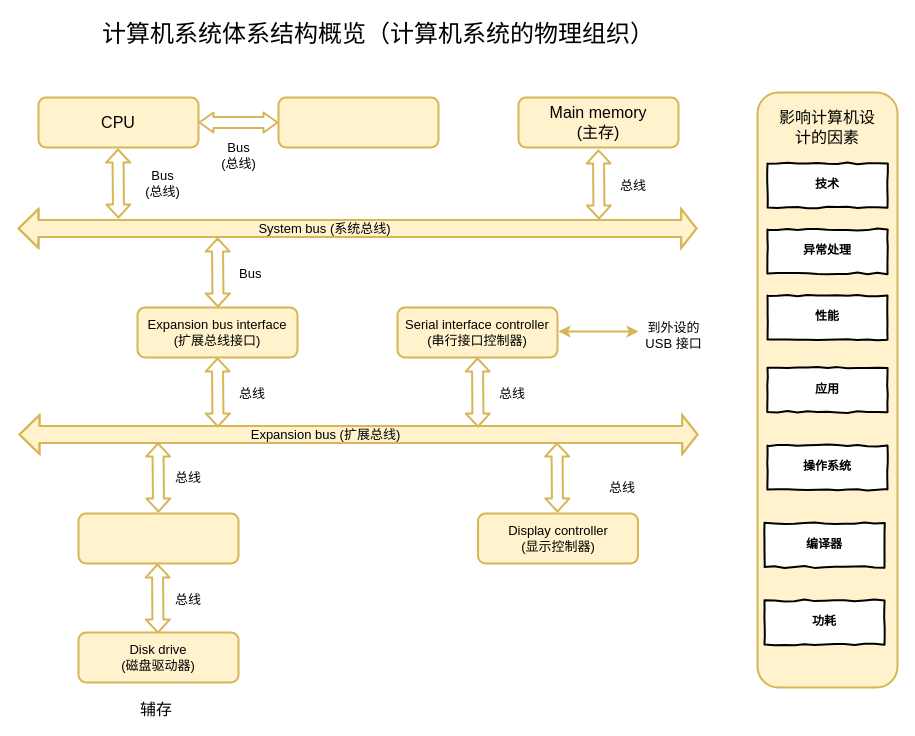
This 915x736 diagram has some shape labels left out. Here are the shapes that lost their labels. From the top down, the centre of each, then its label:
At point (358, 122): "Cache memory (高速缓存)".
At point (158, 538): "I/O controller (I/O 控制器)".
